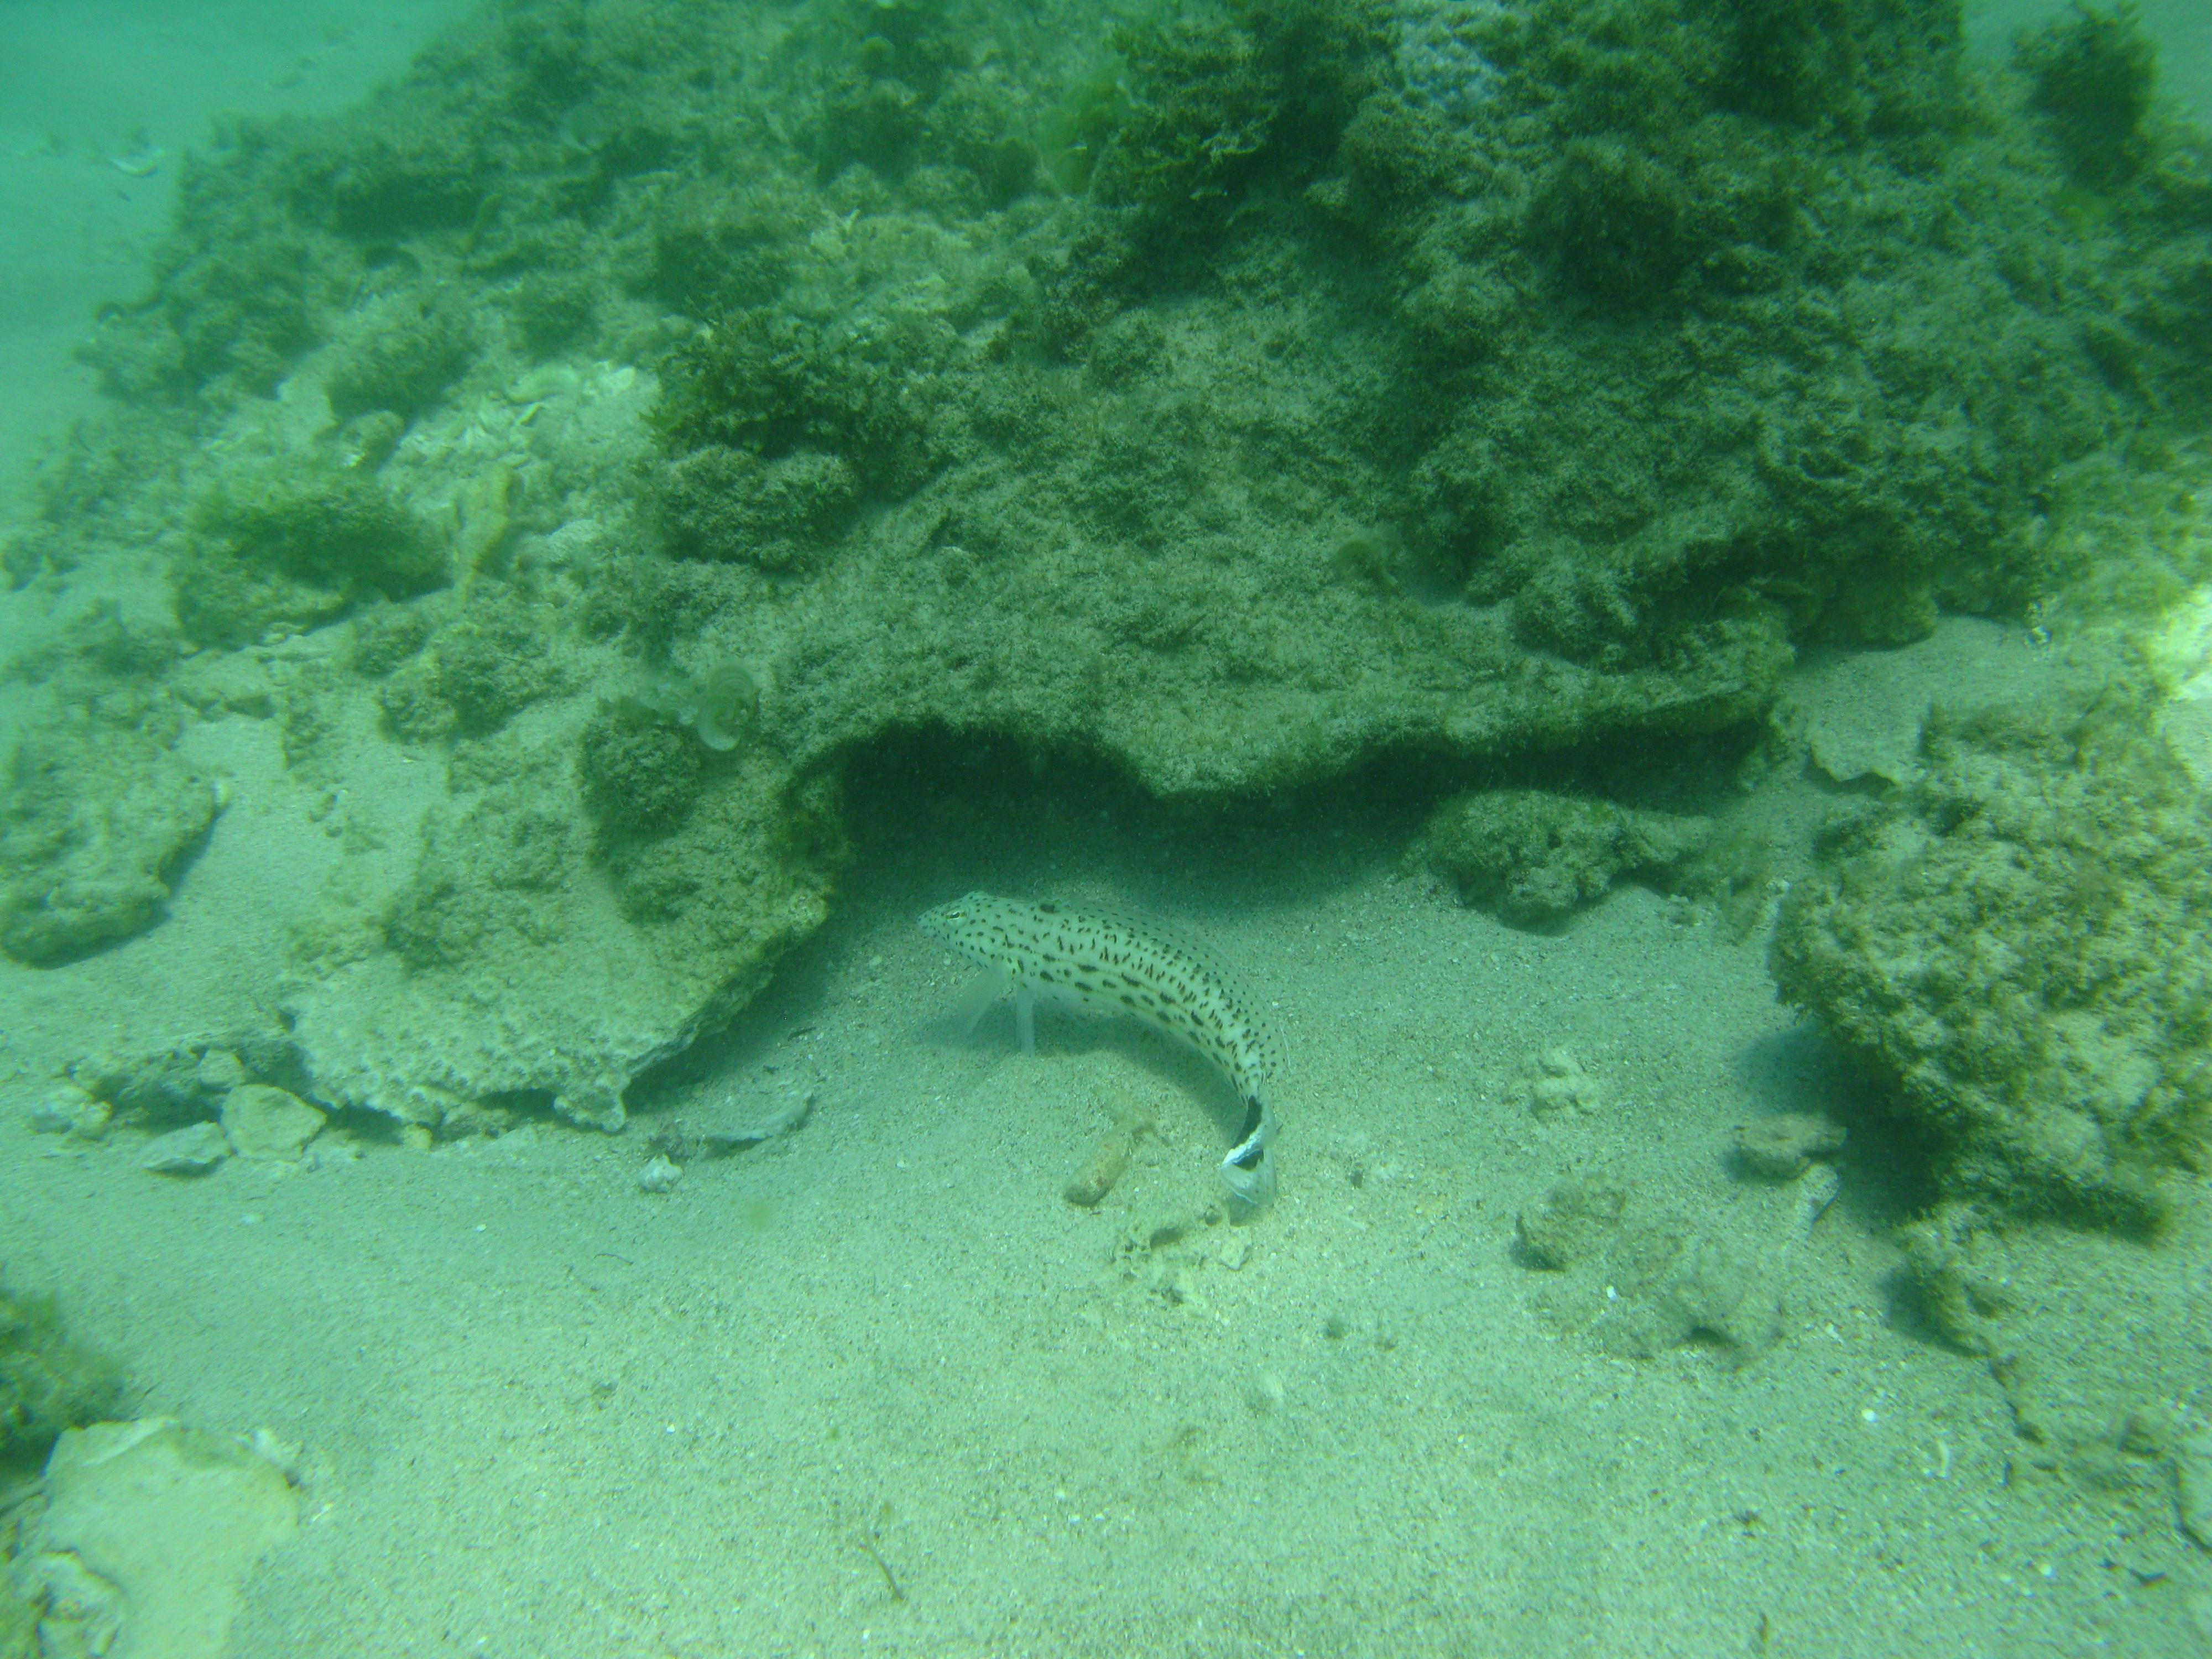Fish: (907, 863, 1327, 1227)
